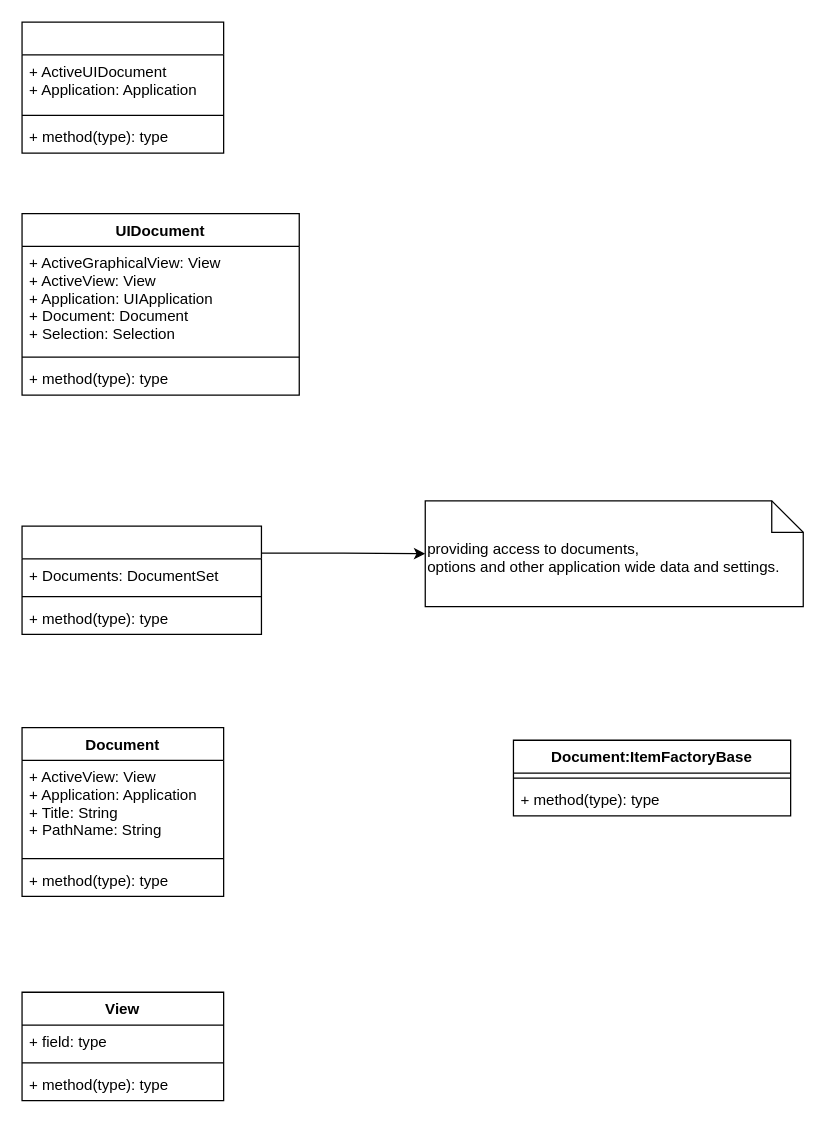
This 825x1126 diagram has some shape labels left out. Each missing label, with the box of its shape:
Application: (21, 525, 261, 634)
UIApplication: (21, 21, 224, 153)
